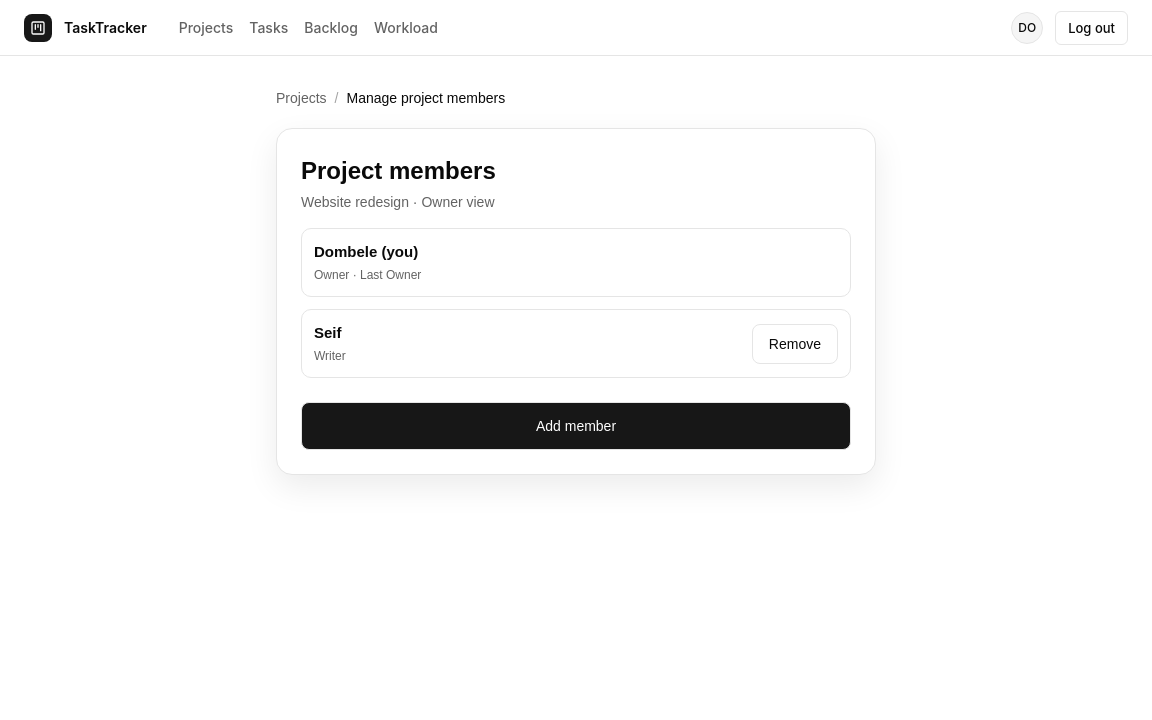
Test: [US-4] Frontend - Manage project members acceptance tests › State 06: prevents adding duplicate project member with clear validation message
Click the button with test id "add-member-open-btn".
click(576, 426)  # box [301, 402, 851, 450]
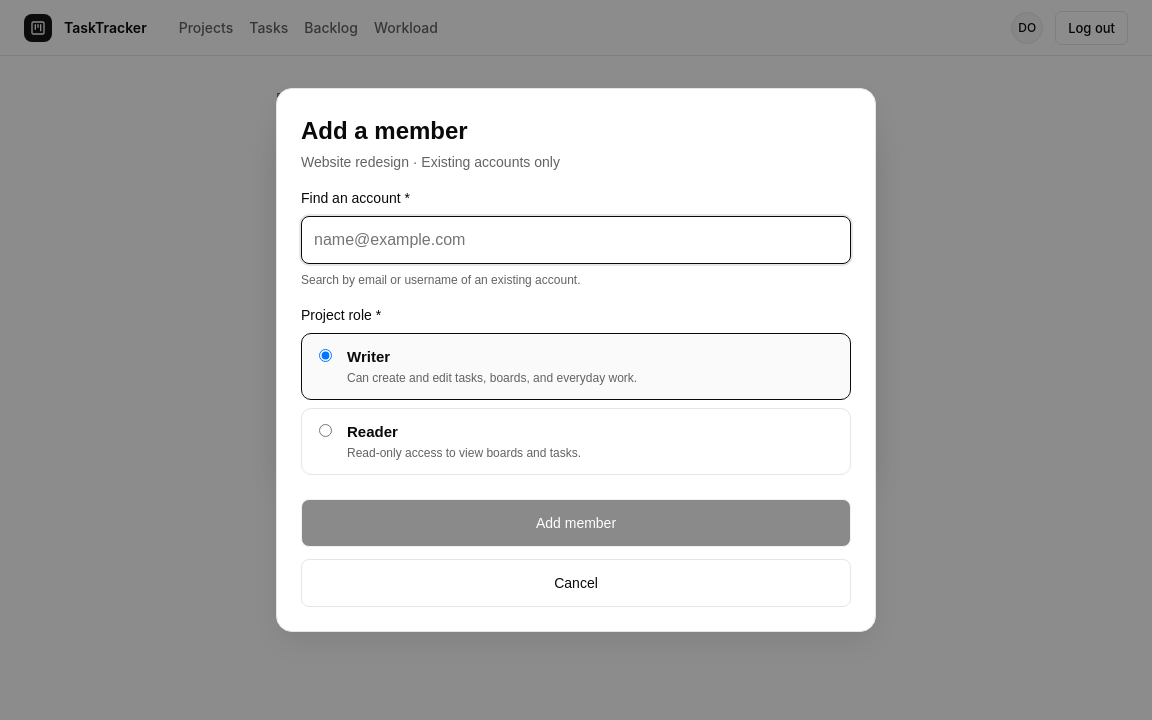
Type "Seif" into the field with test id "add-member-email-input".
click(576, 240); type("Seif")  # box [301, 216, 851, 264]
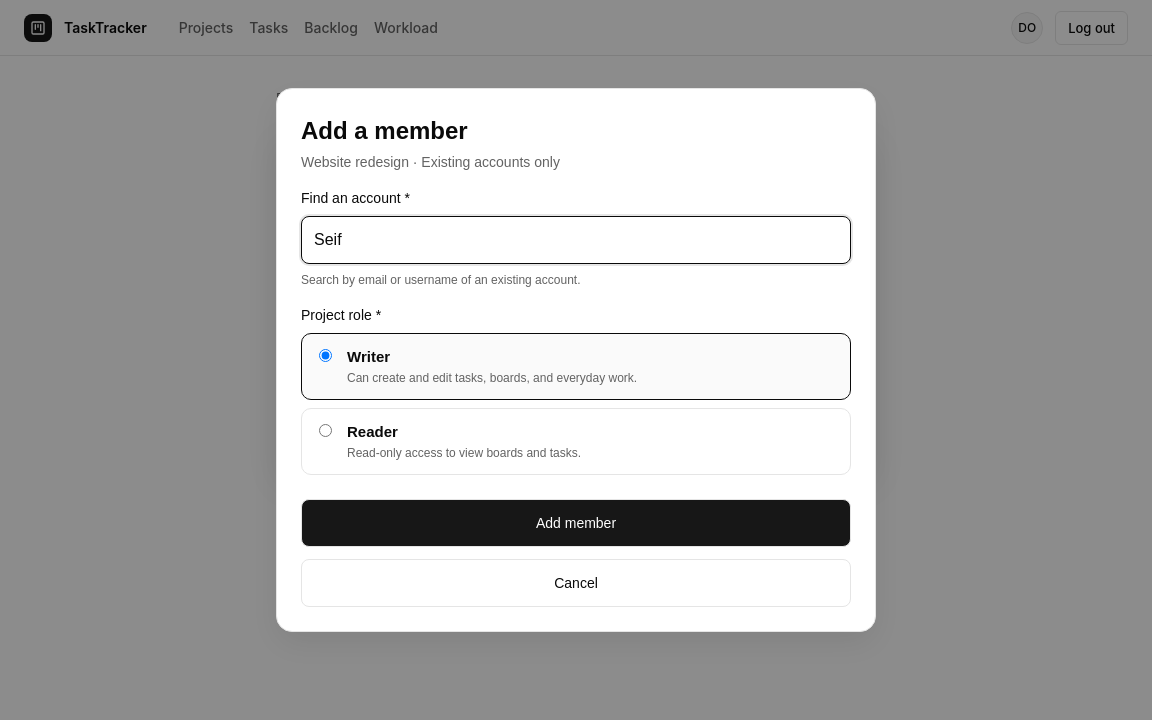
Click the button with test id "add-member-submit-btn".
click(576, 523)  # box [301, 499, 851, 547]
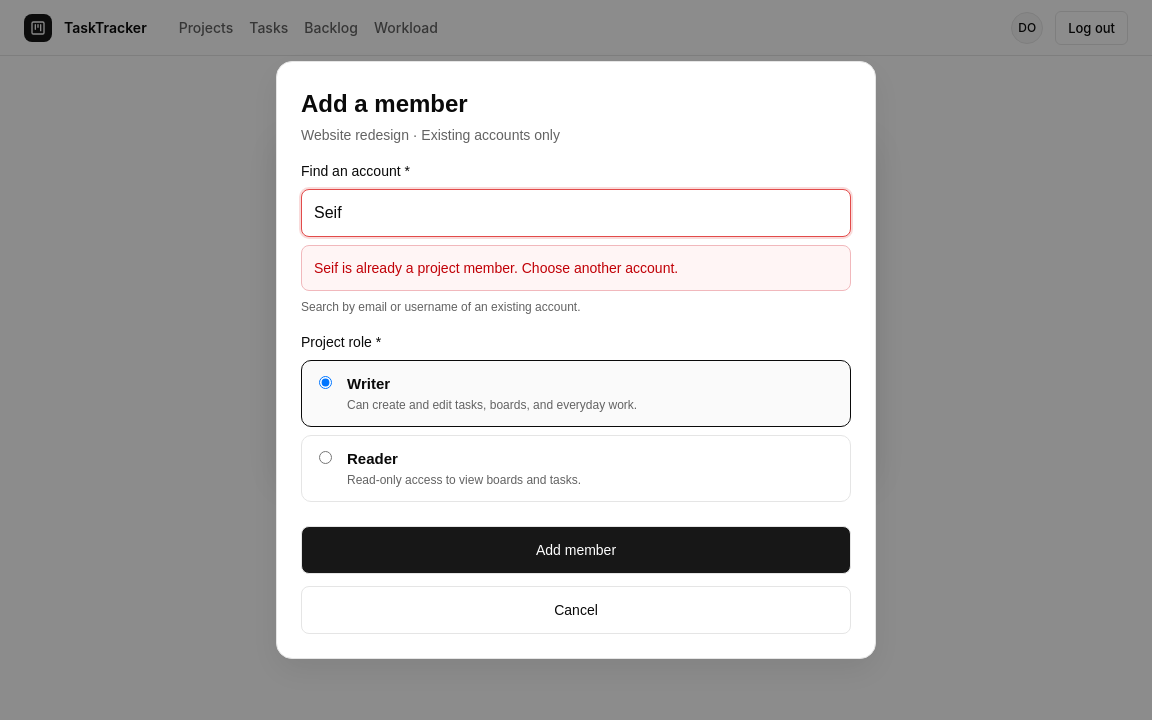
Result: the text "Seif is already a project member. Choose another account." is shown at [314, 258, 678, 278]
